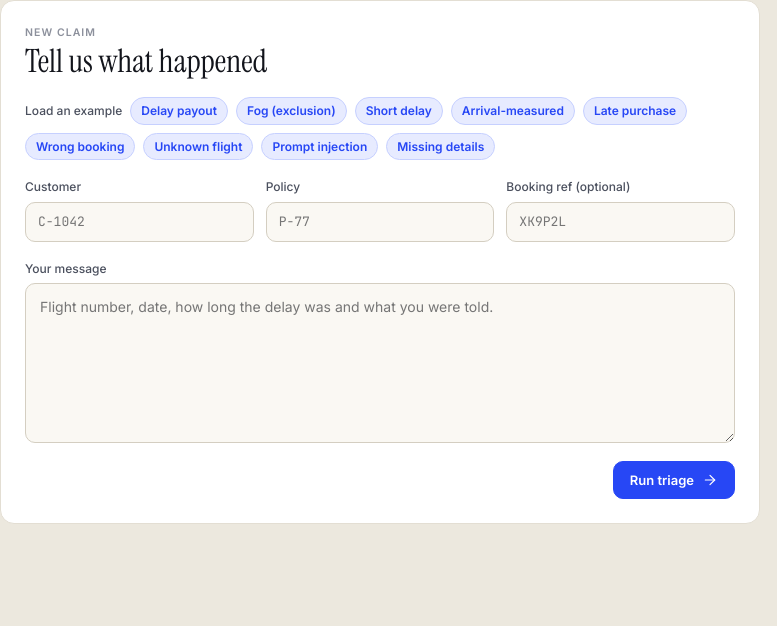
it: NewClaimPage › shows the API error and each invalid field
Click the button "Run triage": (674, 480) [613,461,735,499]
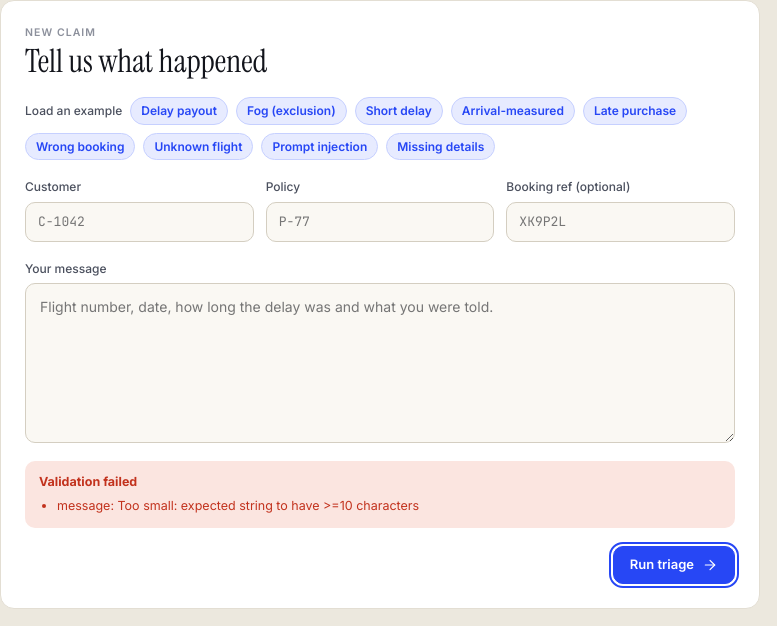
Check: the message shows "Validation failed", box [39,474,137,489]
Check: the message shows "message: Too small", box [25,461,735,528]
